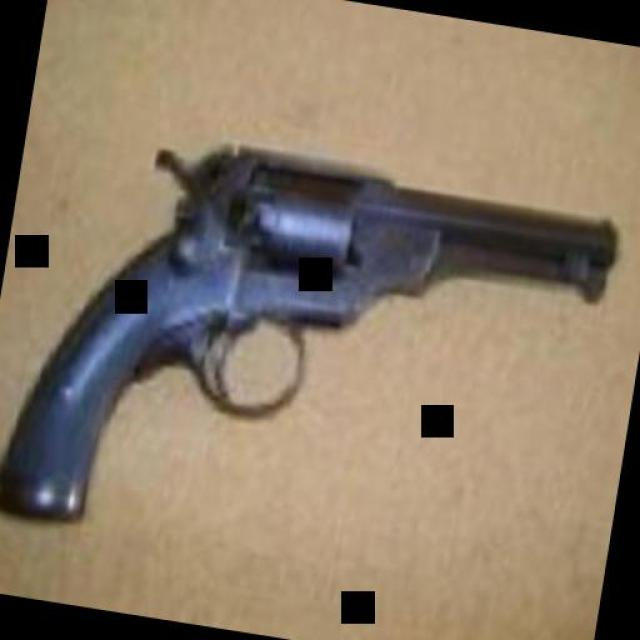gun: (0, 100, 616, 602)
